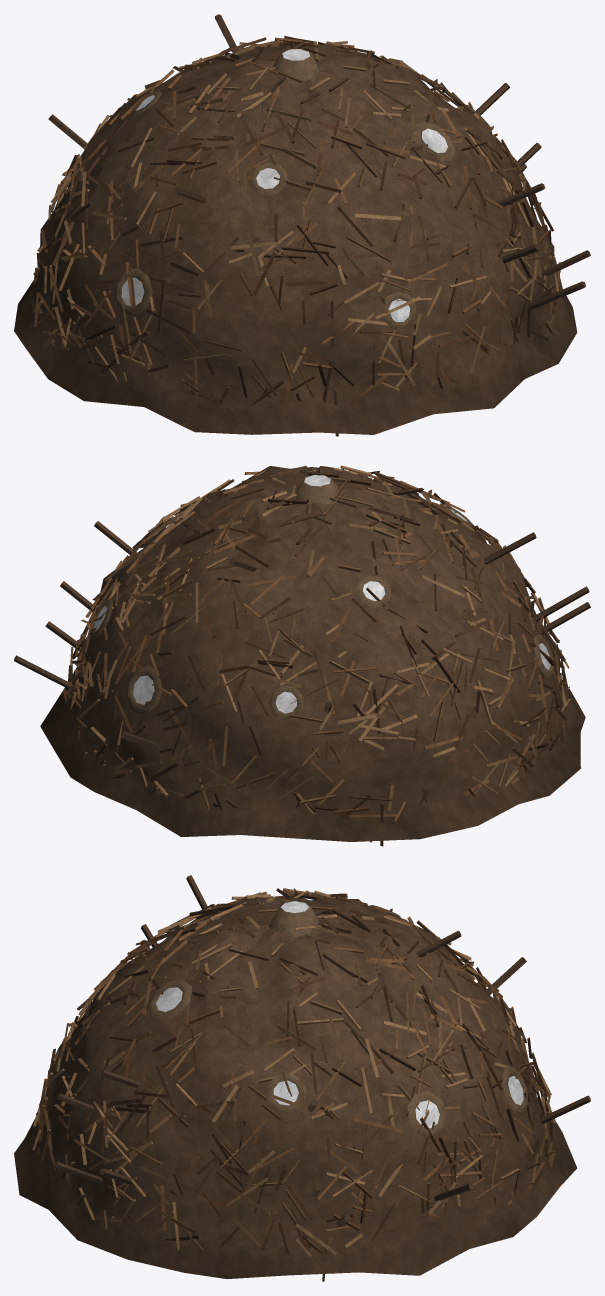
The model's file is gang_colonie_2.glb.
3 renders of one model, top to bottom at view 1: azimuth 30°, elevation 25°; view 2: azimuth 150°, elevation 25°; view 3: azimuth 270°, elevation 25°, orthographic. The views are drawn at different scales.
Visible parts, largest first — view 1: habitat_colonie; view 2: habitat_colonie; view 3: habitat_colonie.
Boxes of the visible parts, bbox=[...] form: habitat_colonie: bbox=[14, 14, 590, 436]; habitat_colonie: bbox=[14, 465, 590, 846]; habitat_colonie: bbox=[14, 875, 590, 1281].
Size of the model in its own units: 55.78 by 29.04 by 56.53.
Materials: 7 (7 with a texture image).
